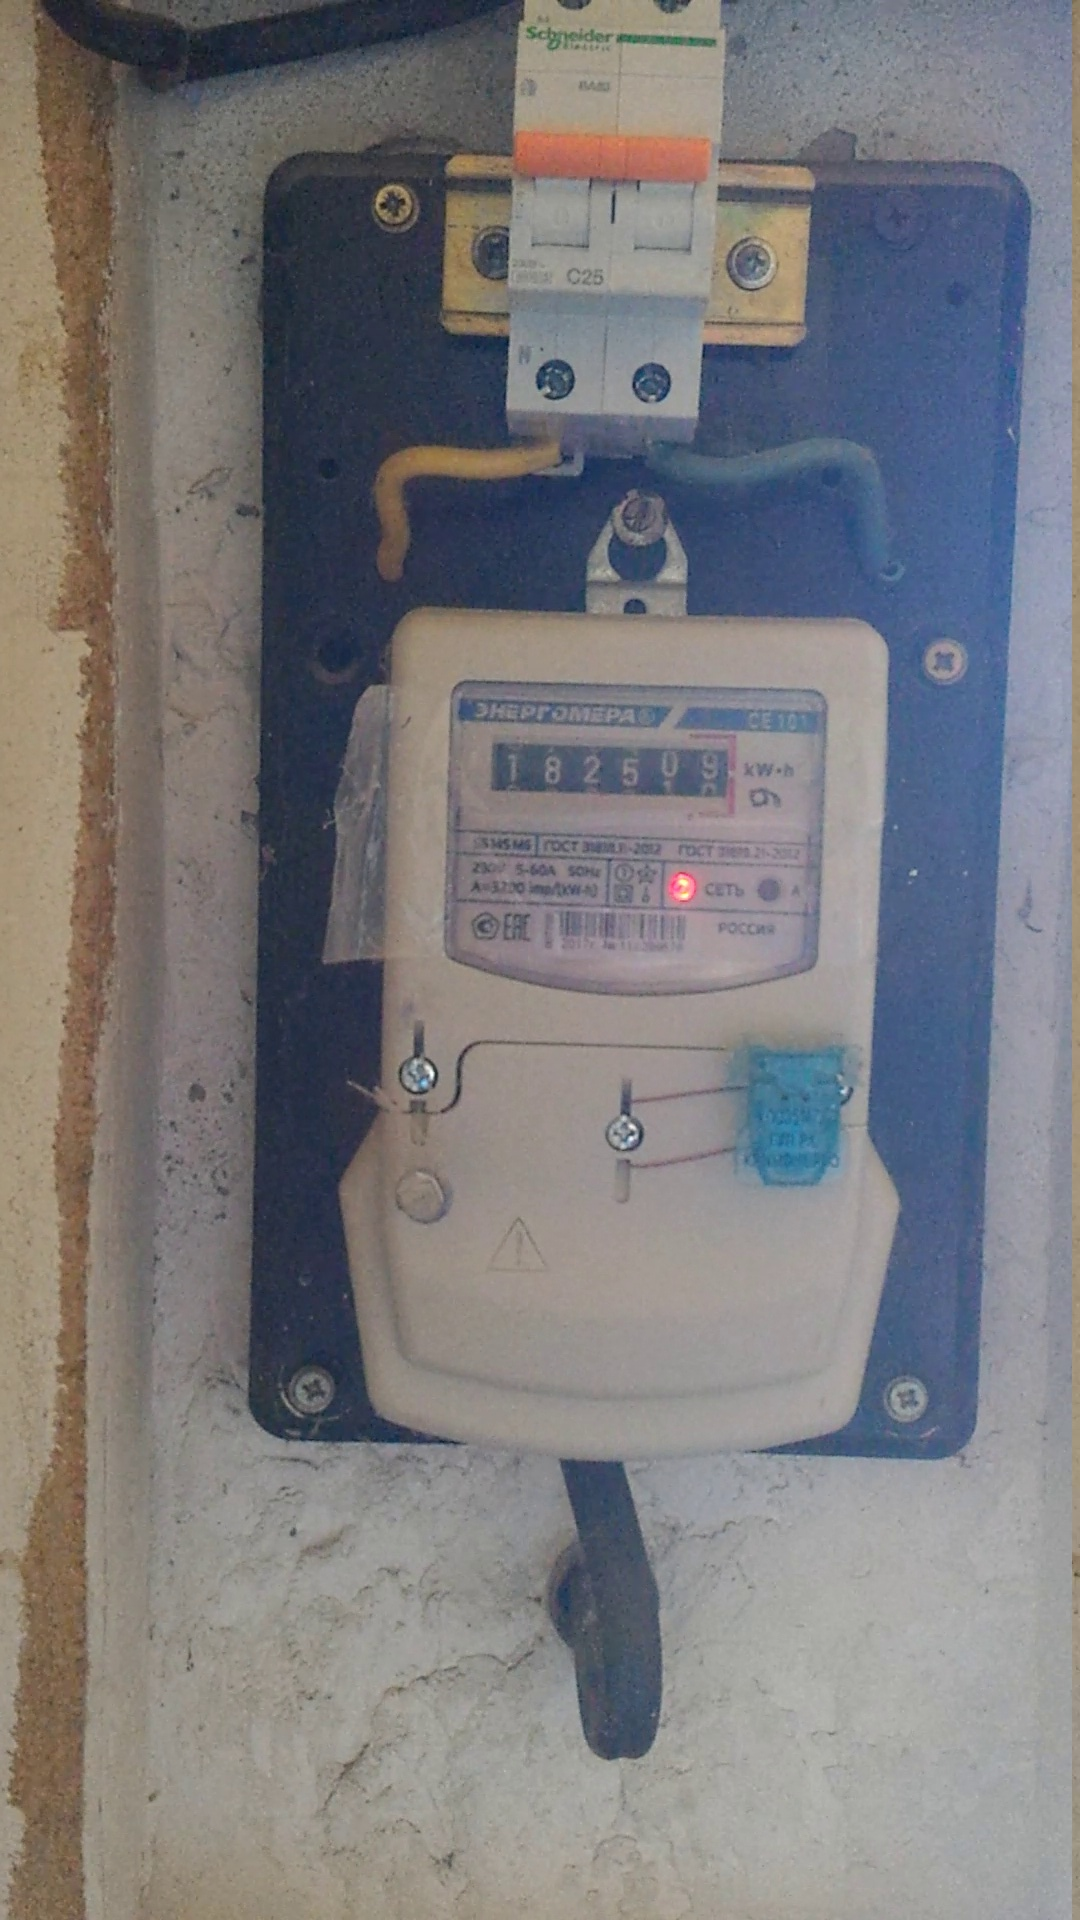counter: (339, 587, 916, 1473)
counter_screen: (485, 740, 735, 804)
